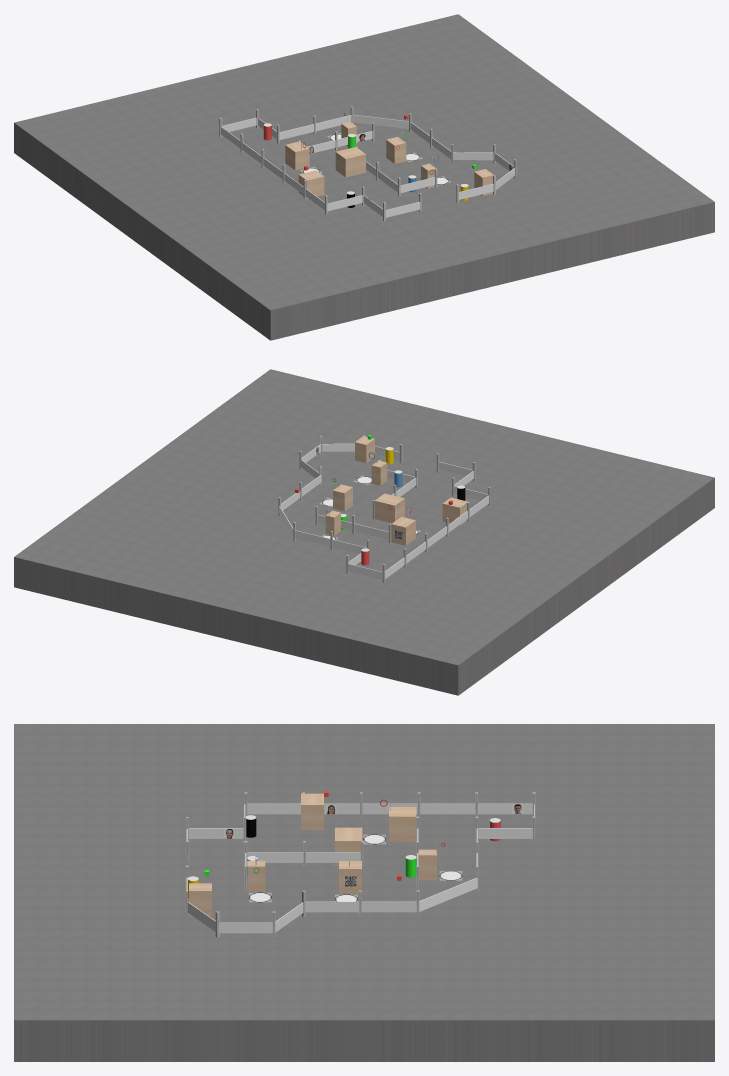
The model's file is map.dae.
3 views of the same model, one above another, from view 1: azimuth 30°, elevation 25°; view 2: azimuth 150°, elevation 25°; view 3: azimuth 270°, elevation 25° (orthographic). The views are drawn at different scales.
Visible parts, largest first — view 1: main; view 2: main; view 3: main.
Part boxes in pixels (x1=…): main: x1=14, y1=14, x2=714, y2=340; main: x1=14, y1=369, x2=714, y2=695; main: x1=14, y1=724, x2=714, y2=1061.
Size of the model in its own units: 15.34 by 15.34 by 1.92.
